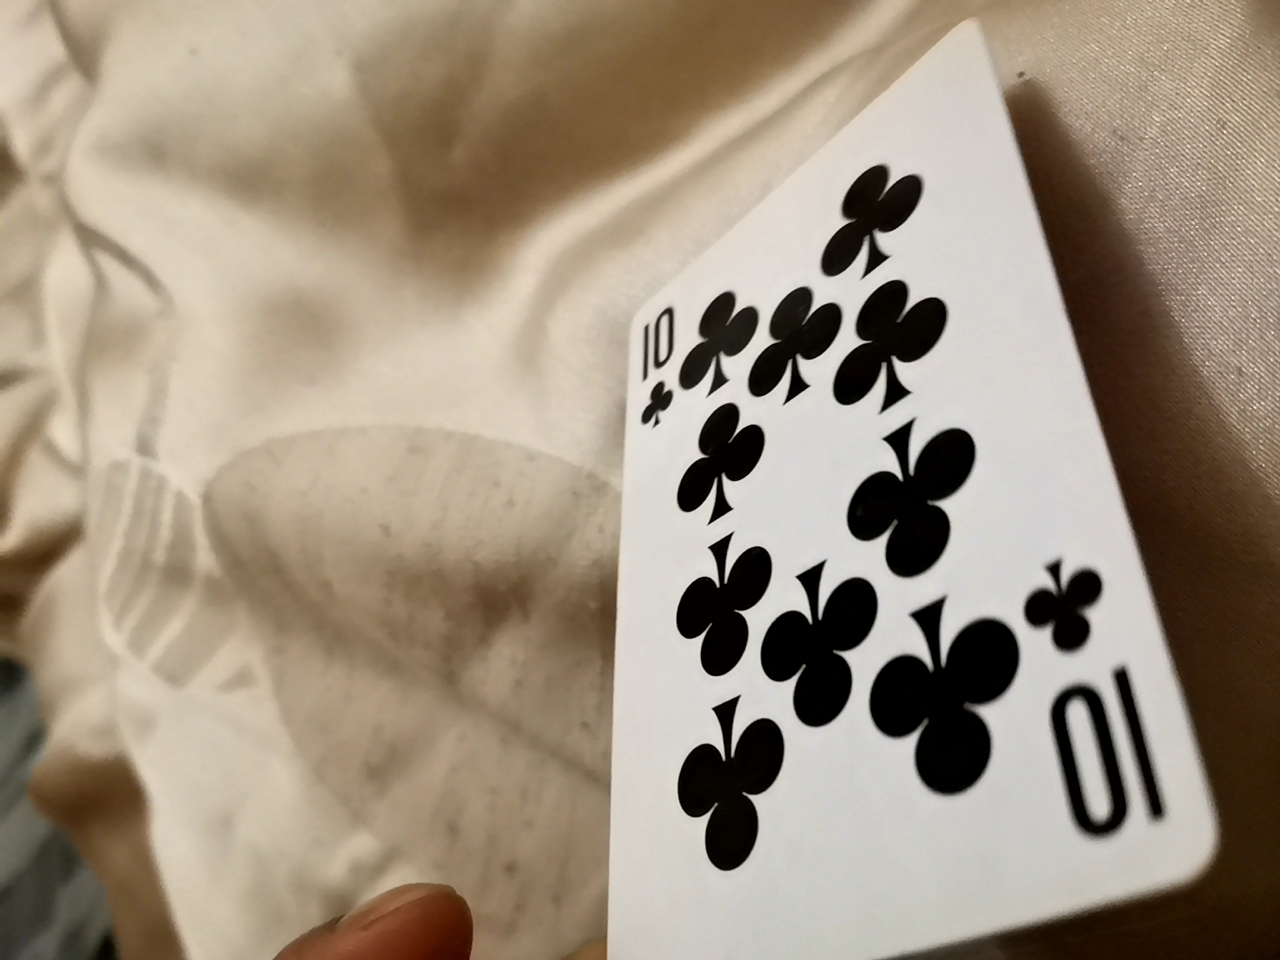mh 10: (541, 12, 1193, 943)
